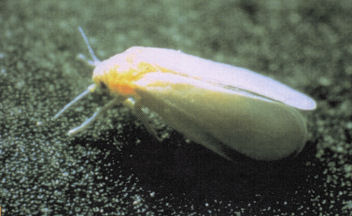whitefly: (43, 27, 319, 163)
